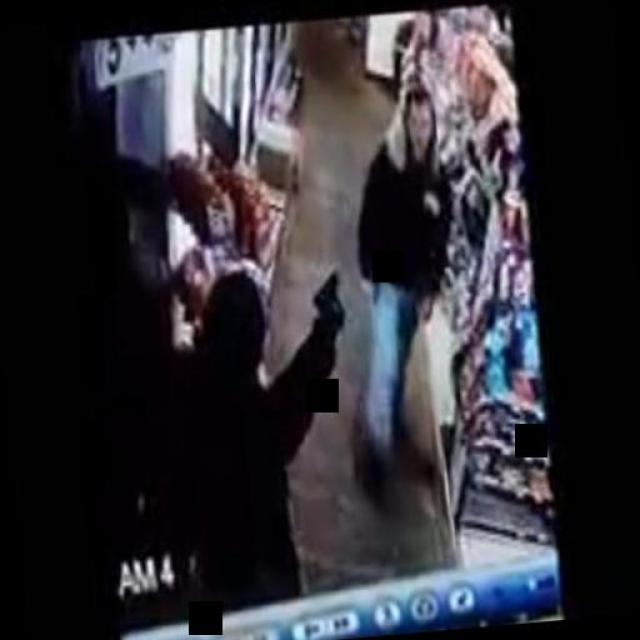gun: (306, 261, 354, 351)
